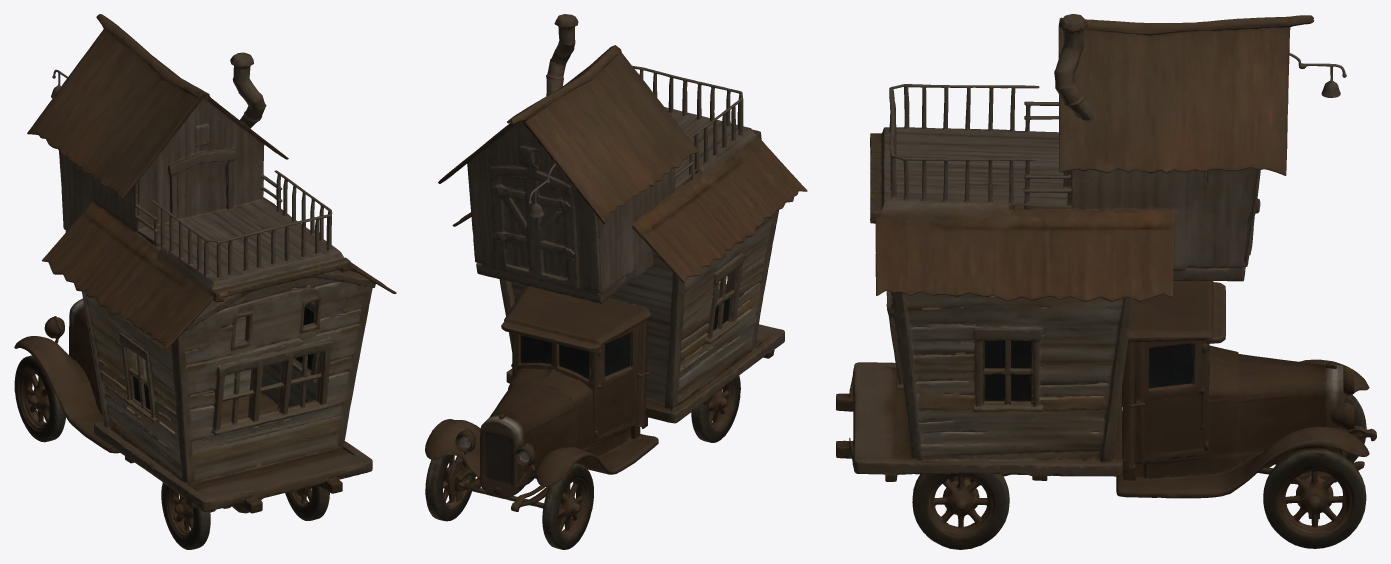
3 renders of one model, left to right at view 1: azimuth 30°, elevation 25°; view 2: azimuth 150°, elevation 25°; view 3: azimuth 270°, elevation 25°, orthographic. The views are drawn at different scales.
Parts seen in each view (by area): view 1: world; view 2: world; view 3: world.
Part boxes in pixels (left/top/right/bottom): world: left=14, top=14, right=396, bottom=549; world: left=425, top=14, right=807, bottom=549; world: left=836, top=14, right=1376, bottom=549.
Bounding box in the file's own units: 0.5742 × 1 × 0.9429.
Materials: 1 (1 with a texture image).
